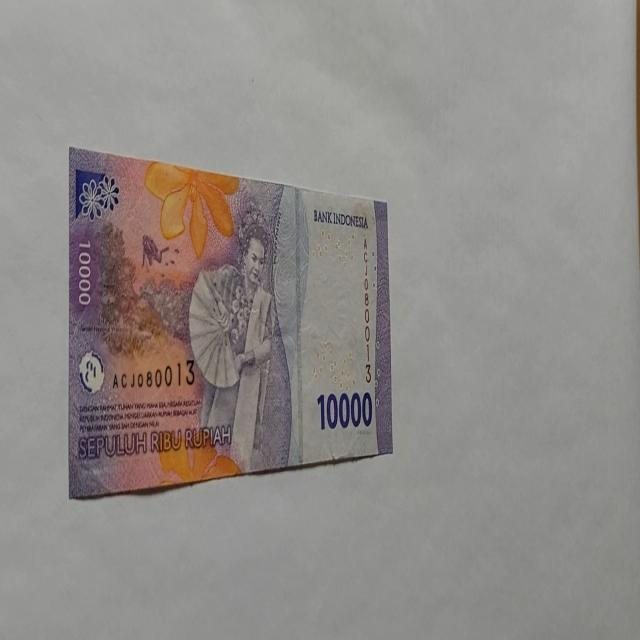sepuluh ribu rupiah: (67, 145, 393, 499)
